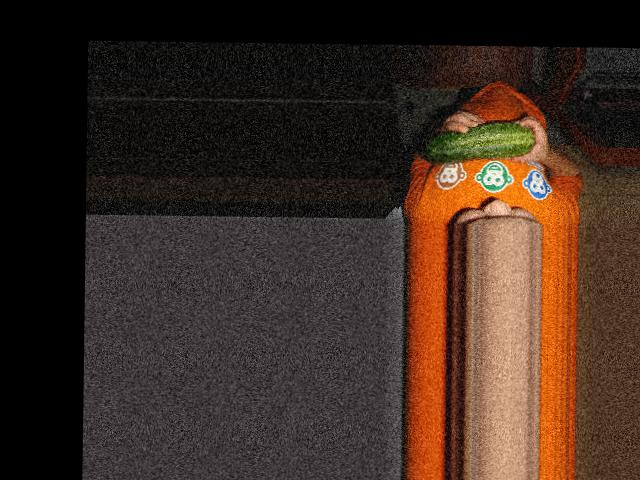cucumber: (421, 121, 536, 165)
